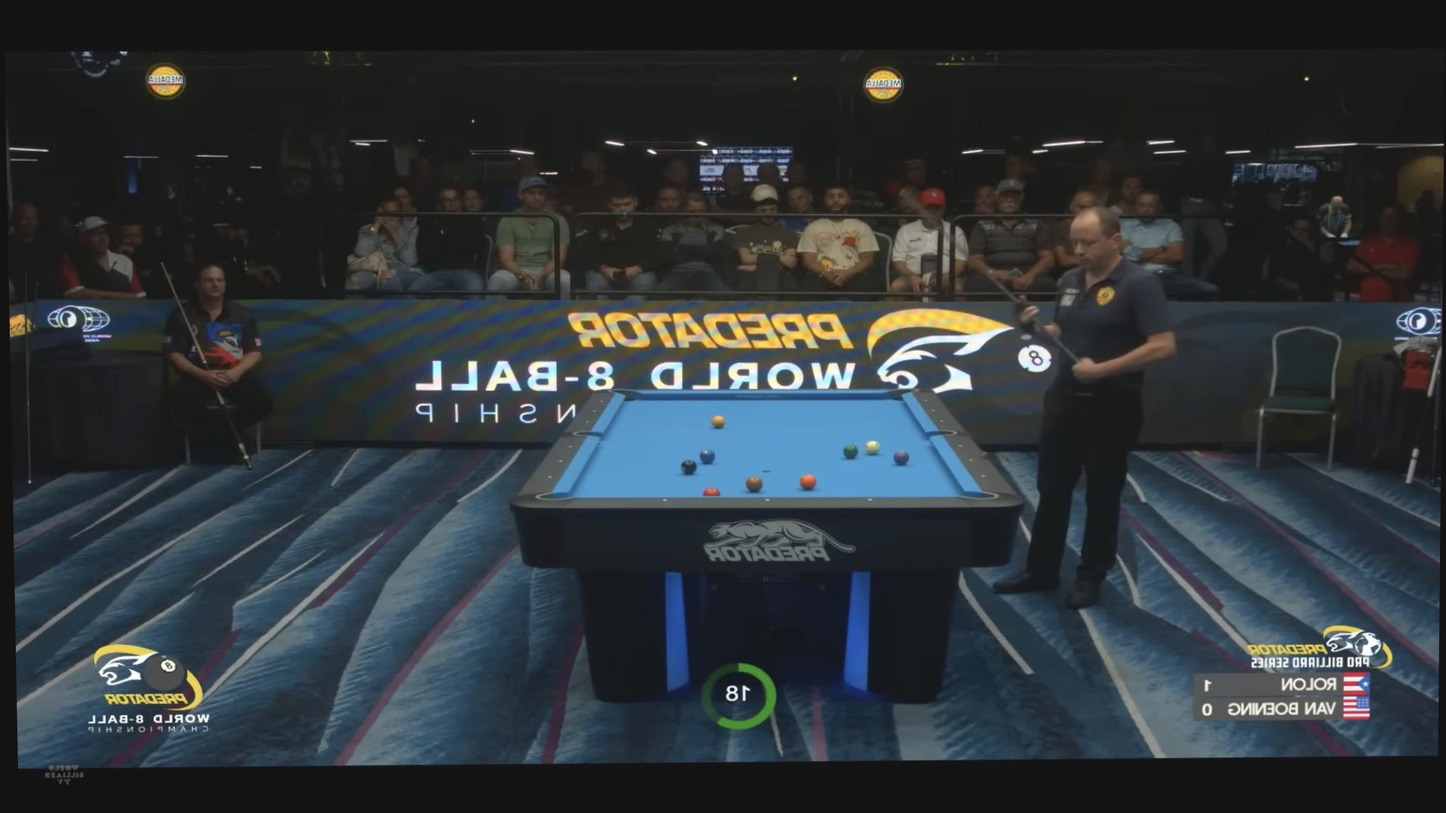Black: (557, 458, 564, 464), (567, 444, 574, 450), (584, 419, 591, 425), (591, 408, 598, 414), (598, 398, 605, 404), (980, 472, 986, 479), (957, 443, 963, 449), (968, 458, 974, 463), (939, 418, 945, 423), (931, 408, 937, 413), (923, 398, 929, 403), (829, 386, 835, 391), (765, 497, 770, 502), (867, 498, 873, 502), (662, 498, 667, 502), (547, 475, 552, 479), (762, 388, 765, 391)
Cue: (746, 476, 763, 492), (799, 474, 816, 489), (699, 449, 715, 464), (843, 444, 859, 459), (893, 451, 910, 465), (711, 415, 725, 428), (703, 487, 721, 496)
Solid: (681, 460, 697, 475)
Stripe: (865, 441, 880, 455)
